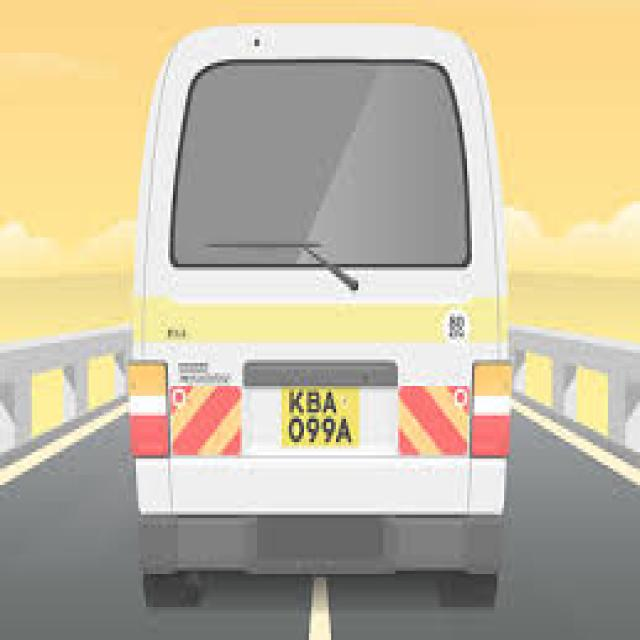matatu: (98, 12, 563, 640)
